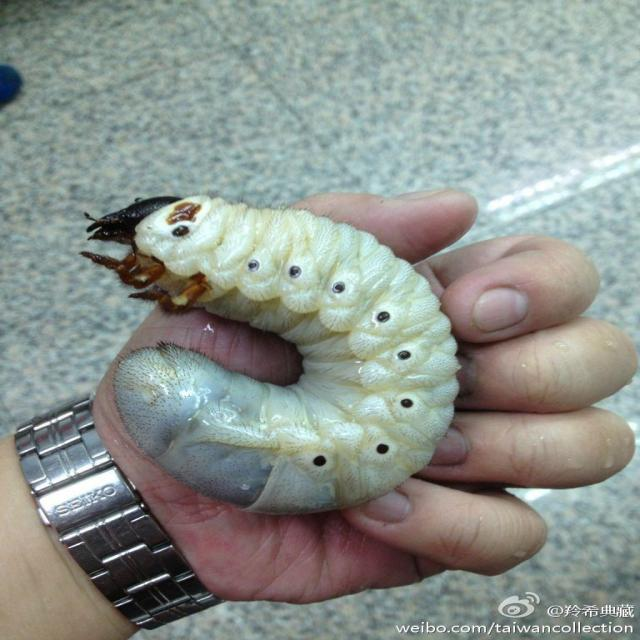Grub-Adult-: (69, 164, 506, 526)
